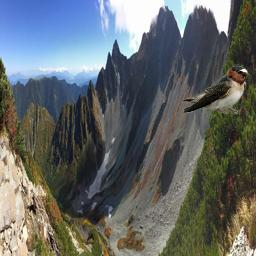Swallow: (181, 64, 251, 116)
